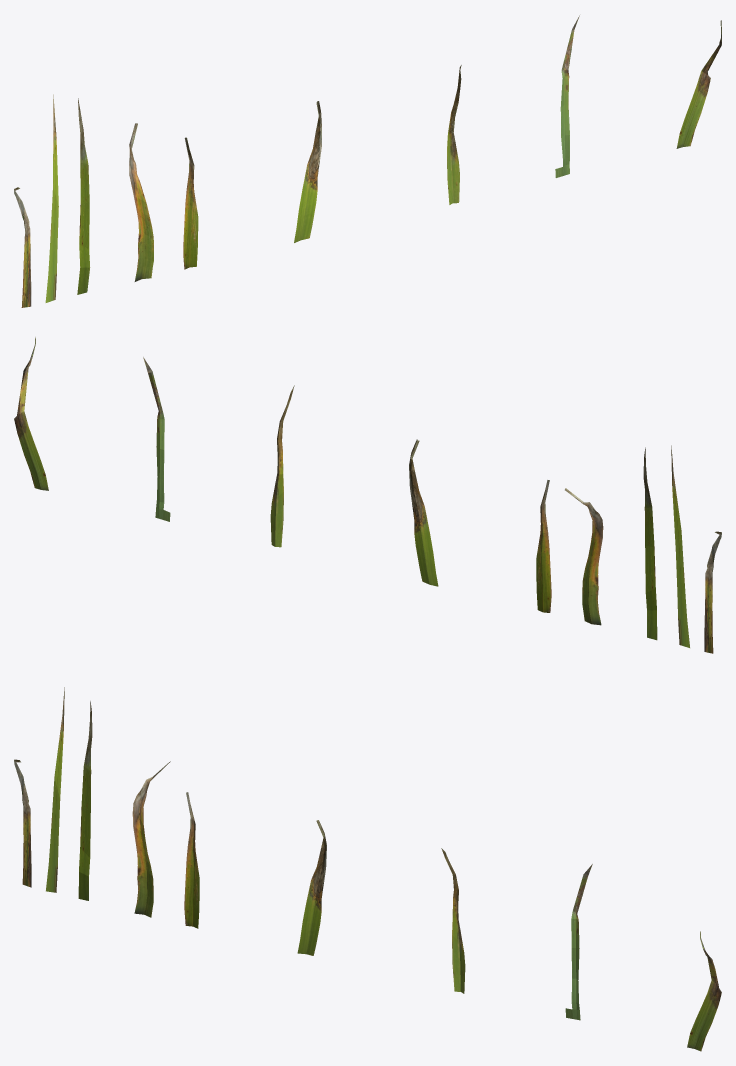
Rendered from ryncho2.fbx.
The picture shows the model from 3 angles, top to bottom: view 1: azimuth 30°, elevation 25°; view 2: azimuth 150°, elevation 25°; view 3: azimuth 330°, elevation 25°; orthographic projection.
Visible parts, largest first — view 1: ryncho4, ryncho6.001, ryncho3.001, ryncho5.001, ryncho2.001, ryncho9.001, ryncho8, ryncho7.001, ryncho1.001; view 2: ryncho4, ryncho6.001, ryncho3.001, ryncho9.001, ryncho5.001, ryncho2.001, ryncho7.001, ryncho8, ryncho1.001; view 3: ryncho4, ryncho6.001, ryncho3.001, ryncho5.001, ryncho2.001, ryncho9.001, ryncho7.001, ryncho8, ryncho1.001.
Boxes of the visible parts, <box> form: ryncho4: <box>129,123,153,269</box>; ryncho6.001: <box>296,101,321,229</box>; ryncho3.001: <box>78,98,90,267</box>; ryncho5.001: <box>183,137,198,254</box>; ryncho2.001: <box>48,94,58,275</box>; ryncho9.001: <box>680,20,721,132</box>; ryncho8: <box>560,15,579,159</box>; ryncho7.001: <box>447,65,461,191</box>; ryncho1.001: <box>14,187,31,290</box>; ryncho4: <box>565,488,603,612</box>; ryncho6.001: <box>409,439,435,572</box>; ryncho3.001: <box>643,447,656,610</box>; ryncho9.001: <box>14,337,45,474</box>; ryncho5.001: <box>536,480,551,598</box>; ryncho2.001: <box>671,445,687,620</box>; ryncho7.001: <box>270,385,294,533</box>; ryncho8: <box>143,357,164,502</box>; ryncho1.001: <box>704,531,721,635</box>; ryncho4: <box>132,761,170,906</box>; ryncho6.001: <box>300,820,326,943</box>; ryncho3.001: <box>79,701,92,876</box>; ryncho5.001: <box>184,792,199,913</box>; ryncho2.001: <box>48,687,64,868</box>; ryncho9.001: <box>690,931,721,1036</box>; ryncho7.001: <box>441,848,465,979</box>; ryncho8: <box>571,864,592,1003</box>; ryncho1.001: <box>14,759,31,870</box>.
Bounding box in the file's own units: 721 × 202 × 59.06.
Materials: 9 (9 with a texture image).
